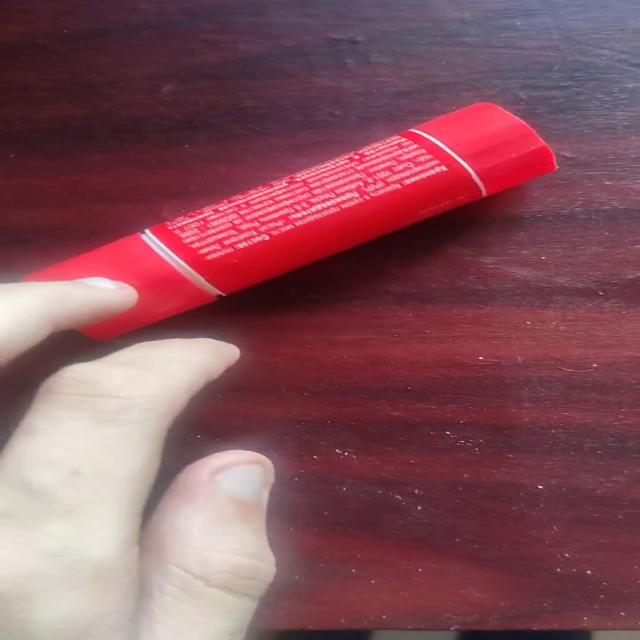glue: (17, 100, 559, 342)
